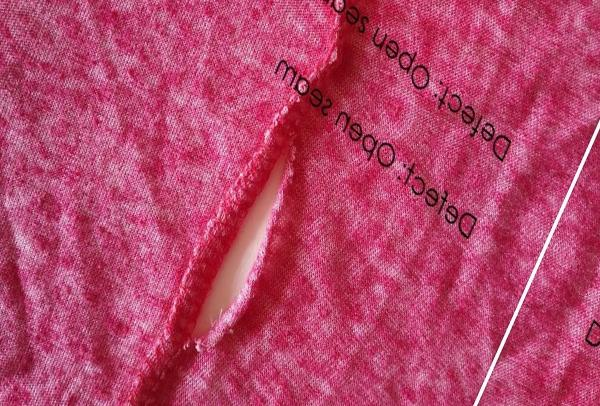hole: (181, 136, 298, 354)
